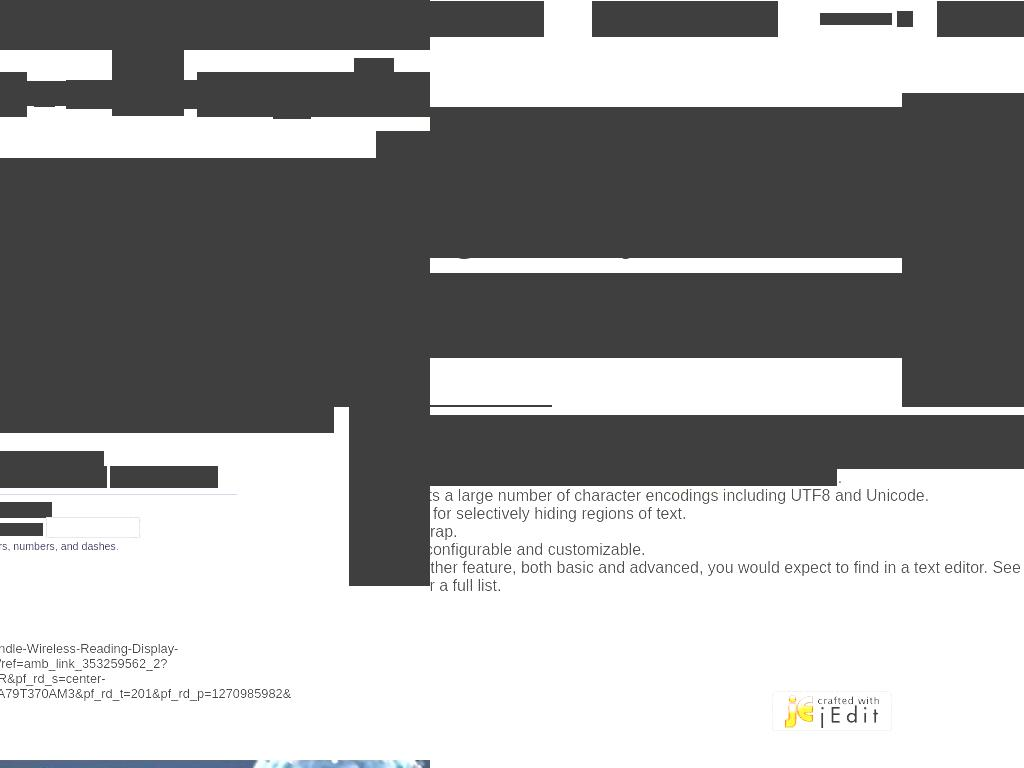button: (112, 44, 184, 116), (430, 1, 544, 37), (0, 81, 99, 106), (273, 72, 311, 119), (376, 131, 430, 161), (354, 58, 394, 98), (406, 72, 430, 117)
field: (197, 72, 430, 117), (592, 1, 778, 37), (66, 80, 271, 109), (110, 466, 218, 488), (0, 466, 107, 488), (46, 517, 141, 539)
heading: (430, 107, 902, 258), (0, 575, 430, 598)
image: (0, 158, 430, 407), (772, 691, 892, 731), (430, 3, 544, 35), (34, 82, 55, 107), (284, 83, 300, 108), (897, 11, 913, 27), (419, 87, 430, 102)
link: (656, 469, 839, 486), (820, 13, 892, 25)
text: (430, 273, 902, 358), (0, 641, 298, 717), (430, 415, 1024, 433), (430, 433, 1024, 451), (430, 451, 1024, 469), (430, 487, 1024, 505), (430, 505, 1024, 523), (430, 523, 1024, 541), (430, 541, 1024, 559), (430, 559, 1024, 576), (0, 407, 334, 433), (0, 613, 430, 629), (430, 469, 656, 486), (937, 1, 1024, 37), (0, 451, 104, 467), (0, 540, 119, 553), (430, 577, 501, 594), (0, 502, 52, 518), (0, 523, 43, 536), (0, 417, 24, 433), (837, 469, 842, 486), (22, 417, 26, 433)
